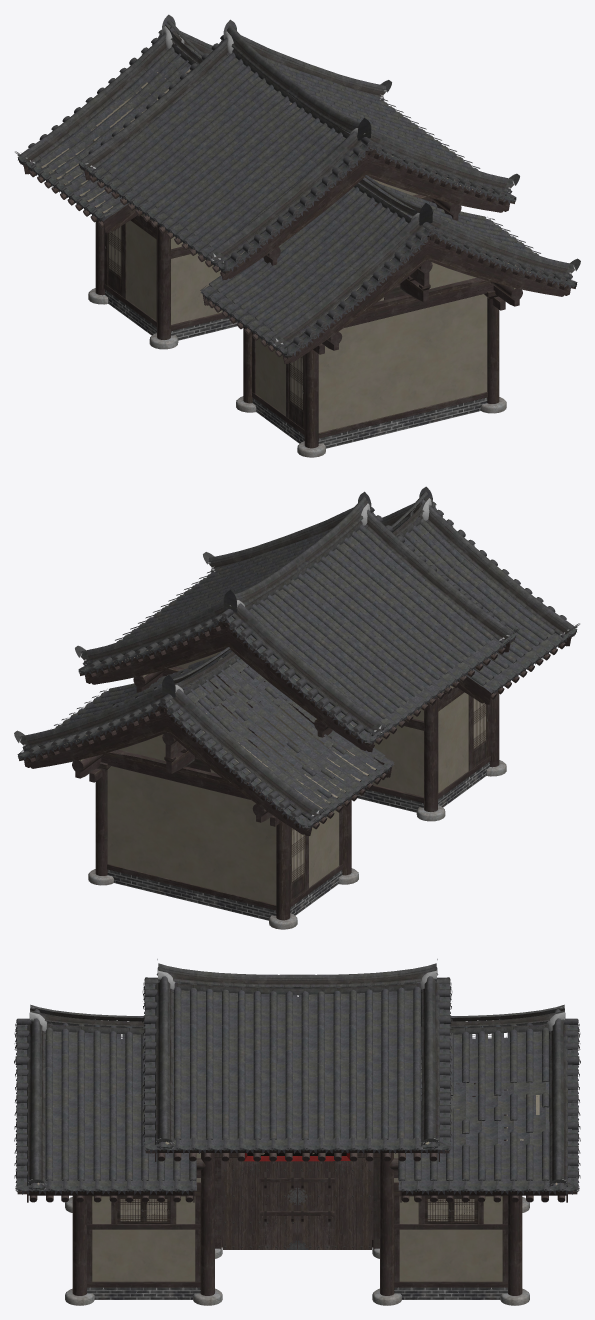
File: gate-main.glb
The picture shows the model from 3 angles, top to bottom: view 1: azimuth 30°, elevation 25°; view 2: azimuth 150°, elevation 25°; view 3: azimuth 270°, elevation 25°; orthographic projection. The views are drawn at different scales.
Parts seen in each view (by area): view 1: Main_Gate_mesh_Roof_Concrete_01_m1_0, Main_Gate_mesh_Roof_Concrete_02_m1_0, Main_Gate_mesh_Pillar_Wood_01_m1_0, Main_Gate_mesh_Floor_Brick_m2_0, Main_Gate_mesh_Module_Wood_01_m1_0, Main_Gate_mesh_Door_01_m_0, Main_Gate_mesh_Floor_Concrete_01_m1_0; view 2: Main_Gate_mesh_Roof_Concrete_01_m1_0, Main_Gate_mesh_Roof_Concrete_02_m1_0, Main_Gate_mesh_Pillar_Wood_01_m1_0, Main_Gate_mesh_Floor_Brick_m2_0, Main_Gate_mesh_Module_Wood_01_m1_0, Main_Gate_mesh_Door_01_m_0, Main_Gate_mesh_Floor_Concrete_01_m1_0; view 3: Main_Gate_mesh_Roof_Concrete_01_m1_0, Main_Gate_mesh_Pillar_Wood_01_m1_0, Main_Gate_mesh_Module_Wood_01_m1_0, Main_Gate_mesh_Roof_Concrete_02_m1_0, Main_Gate_mesh_Floor_Brick_m2_0, Main_Gate_mesh_Door_02_m1_0, Main_Gate_mesh_Floor_Concrete_01_m1_0, Main_Gate_mesh_Accessory_Metal_m1_0, Main_Gate_mesh_Nameplate_01_m1_0.
Boxes of the visible parts, x1=… form: Main_Gate_mesh_Roof_Concrete_01_m1_0: x1=15, y1=14, x2=580, y2=357; Main_Gate_mesh_Roof_Concrete_02_m1_0: x1=41, y1=68, x2=536, y2=432; Main_Gate_mesh_Pillar_Wood_01_m1_0: x1=19, y1=56, x2=575, y2=448; Main_Gate_mesh_Floor_Brick_m2_0: x1=105, y1=290, x2=487, y2=448; Main_Gate_mesh_Module_Wood_01_m1_0: x1=29, y1=72, x2=522, y2=357; Main_Gate_mesh_Door_01_m_0: x1=107, y1=225, x2=304, y2=429; Main_Gate_mesh_Floor_Concrete_01_m1_0: x1=88, y1=288, x2=506, y2=457; Main_Gate_mesh_Roof_Concrete_01_m1_0: x1=14, y1=486, x2=579, y2=829; Main_Gate_mesh_Roof_Concrete_02_m1_0: x1=58, y1=628, x2=468, y2=904; Main_Gate_mesh_Pillar_Wood_01_m1_0: x1=19, y1=619, x2=575, y2=920; Main_Gate_mesh_Floor_Brick_m2_0: x1=107, y1=762, x2=489, y2=920; Main_Gate_mesh_Module_Wood_01_m1_0: x1=72, y1=637, x2=565, y2=829; Main_Gate_mesh_Door_01_m_0: x1=290, y1=697, x2=487, y2=901; Main_Gate_mesh_Floor_Concrete_01_m1_0: x1=88, y1=760, x2=506, y2=929; Main_Gate_mesh_Roof_Concrete_01_m1_0: x1=14, y1=959, x2=580, y2=1194; Main_Gate_mesh_Pillar_Wood_01_m1_0: x1=16, y1=1029, x2=578, y2=1295; Main_Gate_mesh_Module_Wood_01_m1_0: x1=29, y1=1153, x2=565, y2=1249; Main_Gate_mesh_Roof_Concrete_02_m1_0: x1=37, y1=1089, x2=557, y2=1281; Main_Gate_mesh_Floor_Brick_m2_0: x1=87, y1=1287, x2=507, y2=1299; Main_Gate_mesh_Door_02_m1_0: x1=117, y1=1196, x2=477, y2=1223; Main_Gate_mesh_Floor_Concrete_01_m1_0: x1=65, y1=1197, x2=529, y2=1305; Main_Gate_mesh_Accessory_Metal_m1_0: x1=141, y1=1169, x2=450, y2=1249; Main_Gate_mesh_Nameplate_01_m1_0: x1=244, y1=1153, x2=350, y2=1161.
Size of the model in its own units: 7.25 by 6.25 by 10.87.
11 materials, 11 textured.
